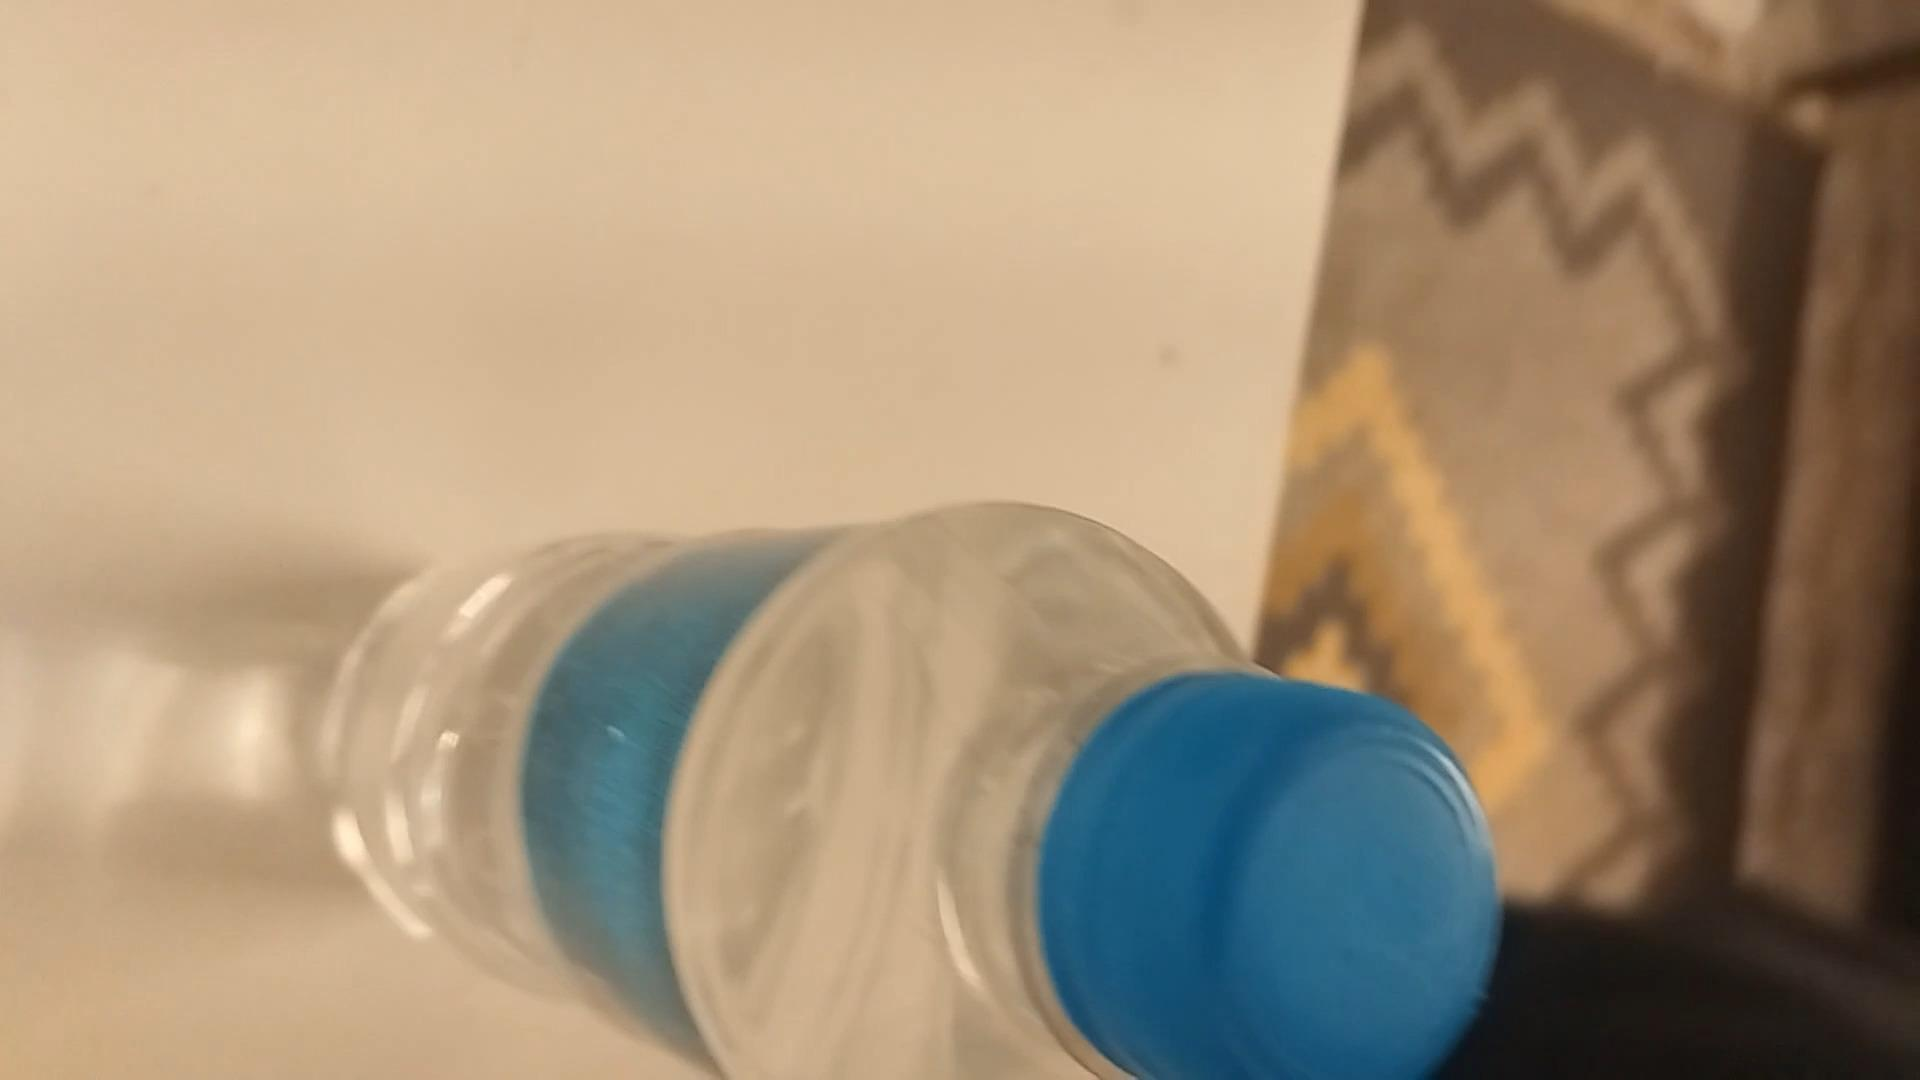agua: (335, 508, 1476, 1080)
